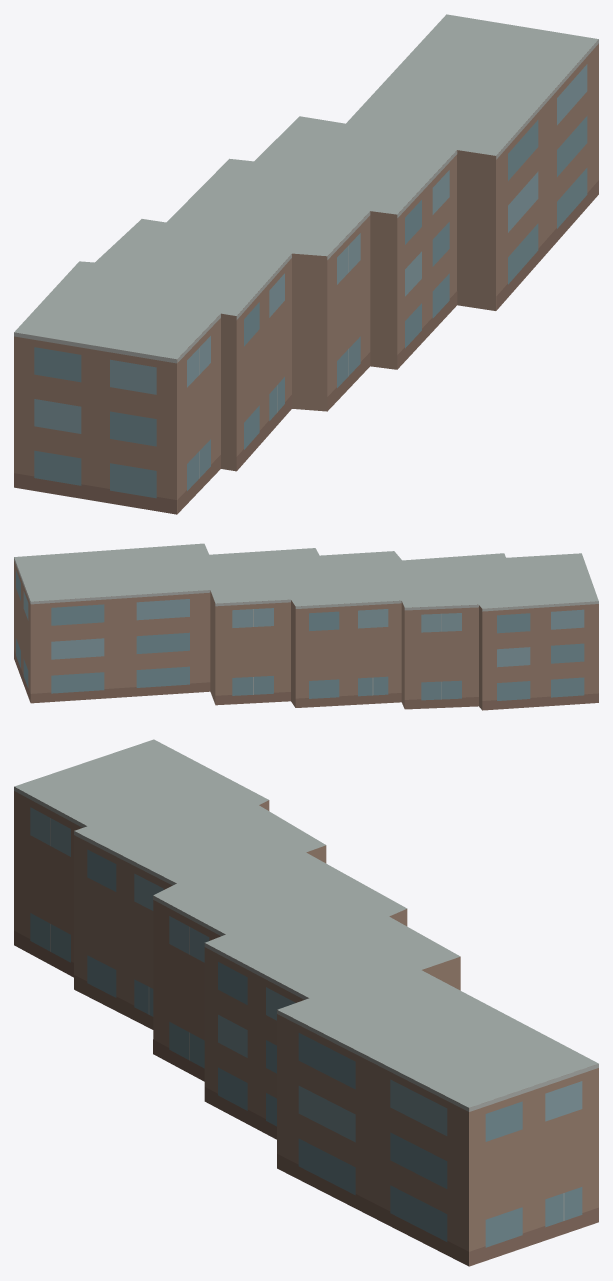
The model's file is survey-upis-32618272.glb.
3 renders of one model, top to bottom at view 1: azimuth 30°, elevation 25°; view 2: azimuth 150°, elevation 25°; view 3: azimuth 270°, elevation 25°, orthographic. The views are drawn at different scales.
Visible parts, largest first — view 1: survey-upis-32618272.tmp; view 2: survey-upis-32618272.tmp; view 3: survey-upis-32618272.tmp.
Boxes of the visible parts, x1=… form: survey-upis-32618272.tmp: x1=14, y1=14, x2=598, y2=514; survey-upis-32618272.tmp: x1=14, y1=543, x2=598, y2=710; survey-upis-32618272.tmp: x1=14, y1=739, x2=598, y2=1266.
Bounding box in the file's own units: 45.58 × 9.15 × 30.57.
